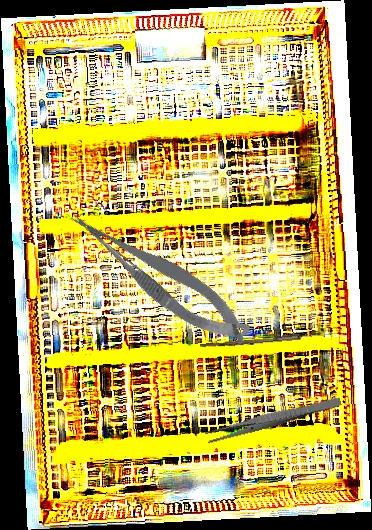Dressing Forceps: (204, 393, 343, 445)
Micro Scissor: (63, 188, 258, 363)
Surgical Spoon: (200, 329, 336, 351)
